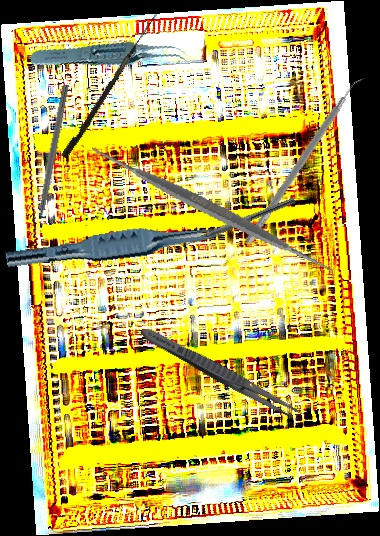Chopper: (170, 189, 296, 254)
Dressing Forceps: (137, 322, 306, 425)
Hook Surgical: (60, 9, 158, 161), (32, 84, 70, 233)
Spatula Surgical: (88, 86, 337, 335), (244, 71, 369, 250)
Tissue Forceps: (5, 213, 224, 281), (29, 18, 192, 97)
